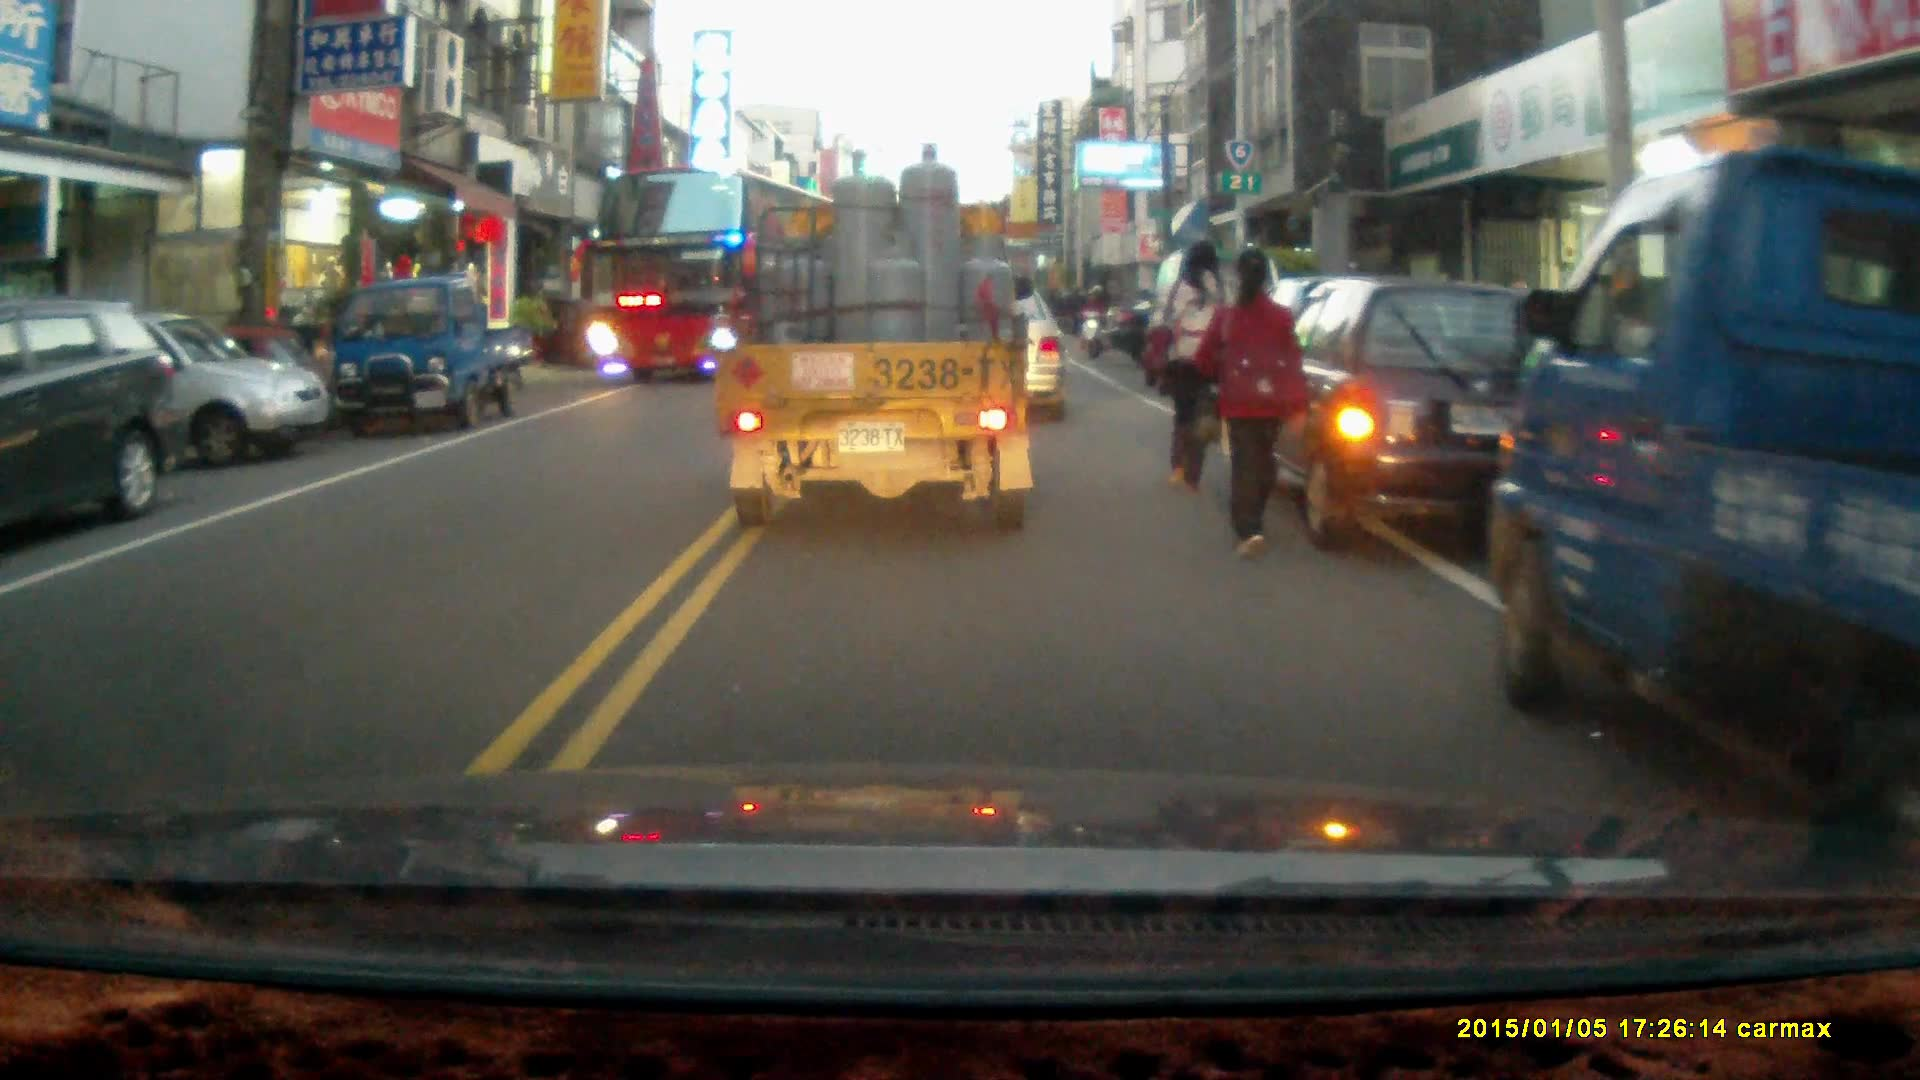pedestrian: (1195, 238, 1308, 556), (1148, 236, 1239, 498)
rider: (1078, 280, 1115, 356)
vehicle: (1488, 138, 1920, 837), (717, 138, 1042, 534), (1249, 277, 1603, 555), (590, 160, 856, 385), (1, 305, 331, 471), (1, 297, 193, 541), (328, 276, 533, 427)
